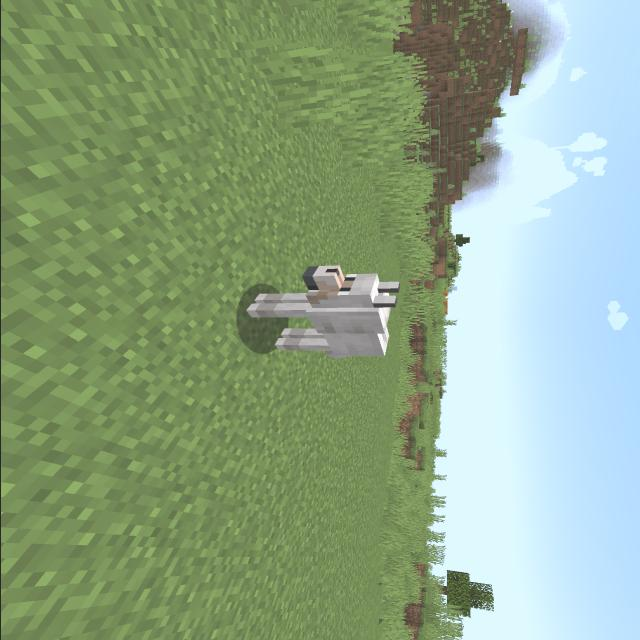Wolf: (230, 258, 408, 368)
